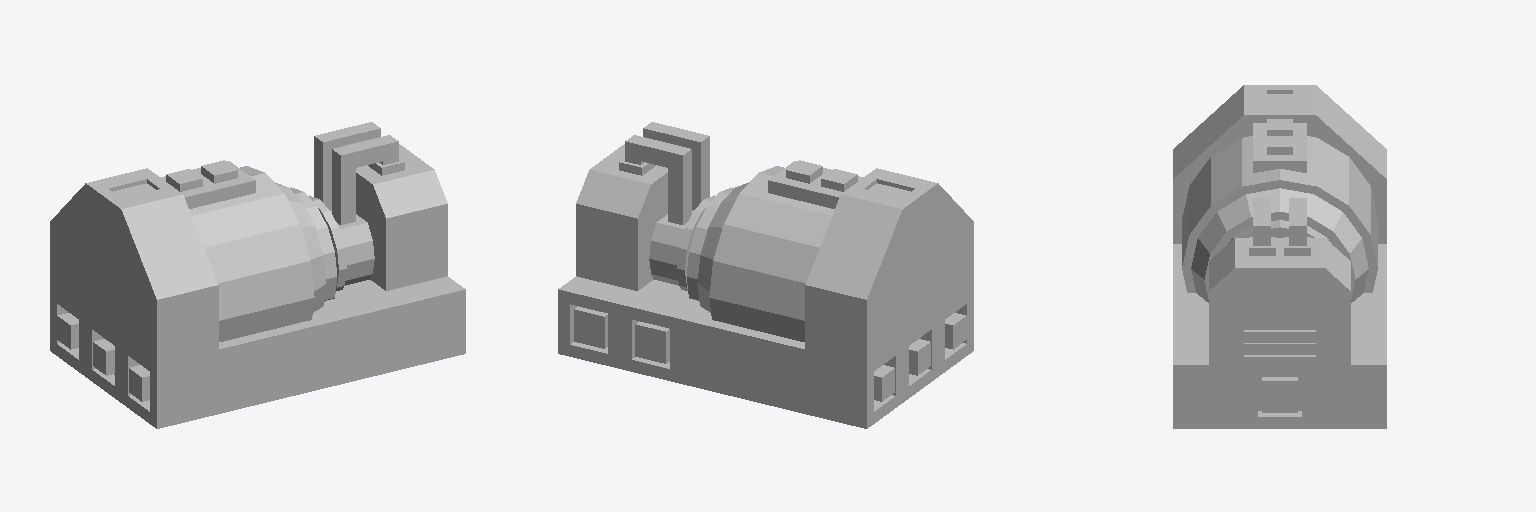
File: thermal_power_plant.obj
3 views of the same model, side by side, from view 1: azimuth 30°, elevation 25°; view 2: azimuth 150°, elevation 25°; view 3: azimuth 270°, elevation 25° (orthographic).
Parts seen in each view (by area): view 1: cube, cube.1; view 2: cube, cube.1; view 3: cube, cube.1.
Boxes of the visible parts, box(x1,y1,x2,y2) form: cube: box(50, 122, 447, 364); cube.1: box(50, 276, 465, 428); cube: box(576, 122, 973, 364); cube.1: box(558, 276, 973, 428); cube: box(1173, 85, 1386, 364); cube.1: box(1173, 244, 1386, 428).
Bounding box in the file's own units: 5.06 × 3 × 3.